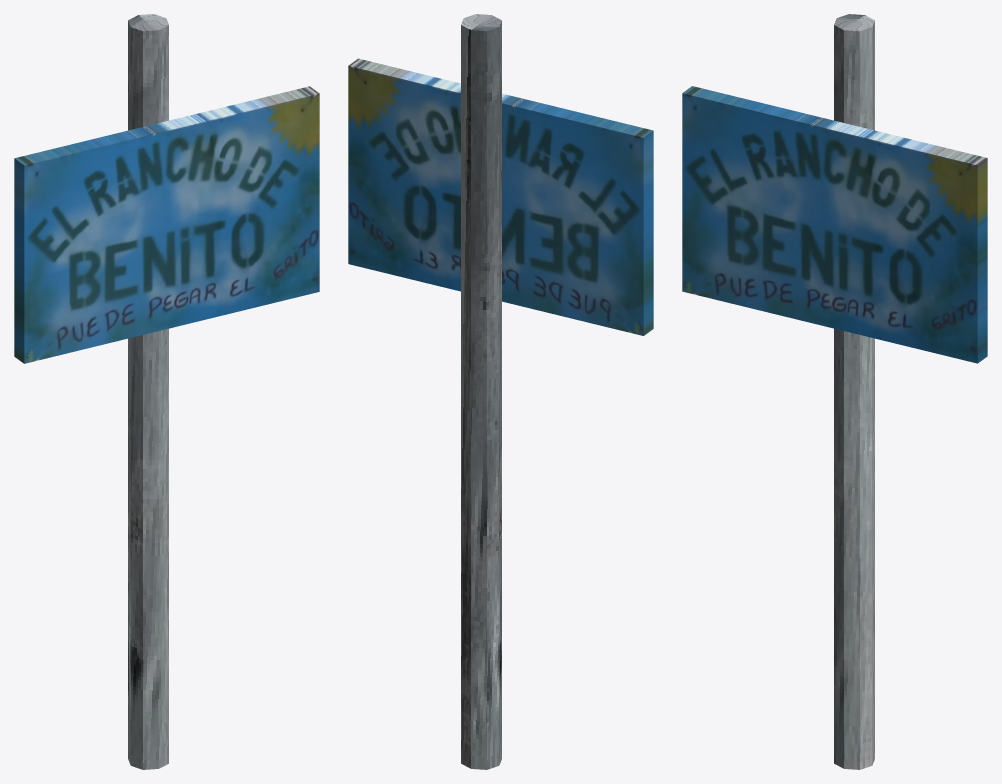
Rendered from NoPasar.glb.
3 views of the same model, side by side, from view 1: azimuth 30°, elevation 25°; view 2: azimuth 150°, elevation 25°; view 3: azimuth 330°, elevation 25° (orthographic).
Visible parts, largest first — view 1: Cube.030, Cube.031; view 2: Cube.030, Cube.031; view 3: Cube.030, Cube.031.
Boxes of the visible parts, <box> form: Cube.030: <box>14,86,319,363</box>; Cube.031: <box>128,14,168,769</box>; Cube.030: <box>348,58,653,335</box>; Cube.031: <box>461,14,501,769</box>; Cube.030: <box>682,86,987,363</box>; Cube.031: <box>834,14,874,769</box>.
Bounding box in the file's own units: 0.1858 × 0.4439 × 0.0374.
Materials: 2 (2 with a texture image).
